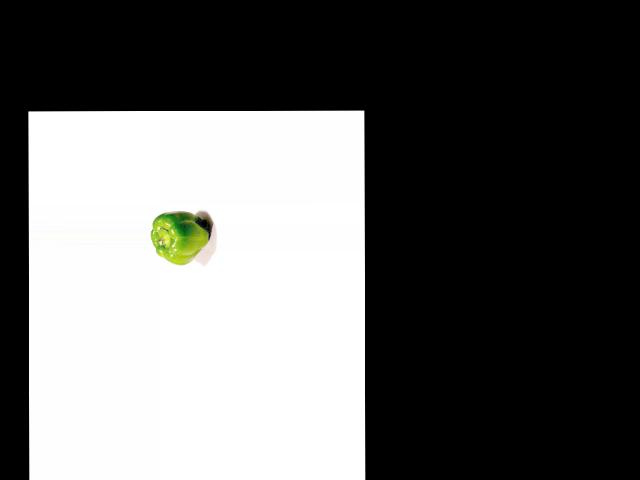bell_pepper: (151, 209, 212, 267)
